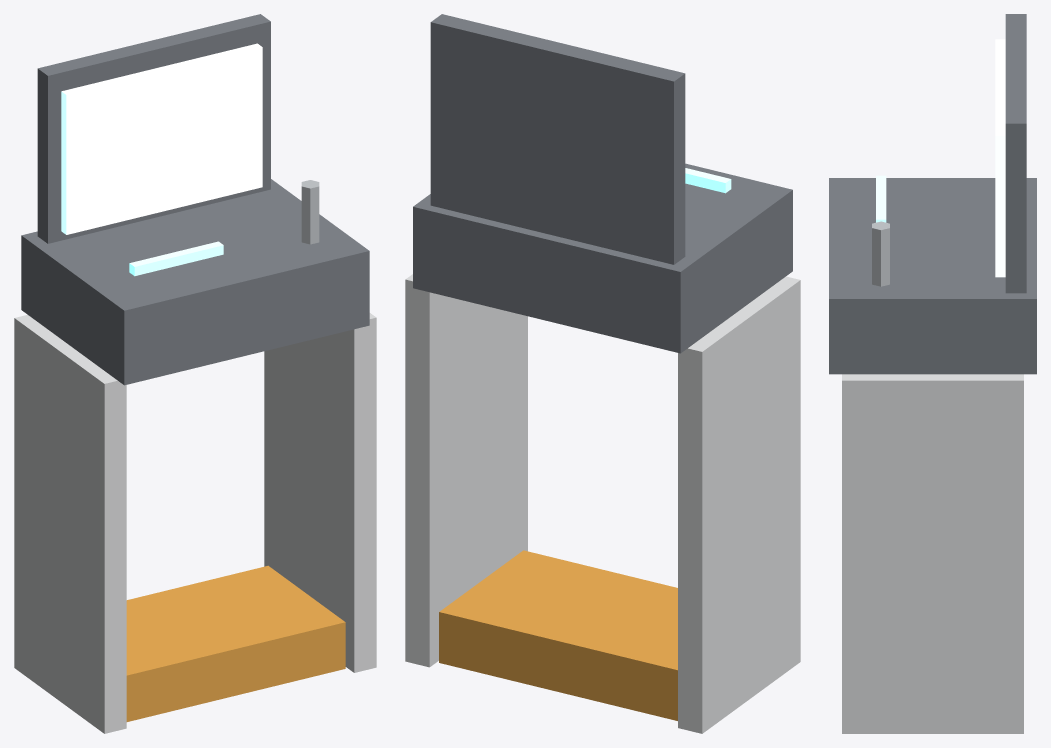
File: ground-control-station.glb
The picture shows the model from 3 angles, left to right: view 1: azimuth 30°, elevation 25°; view 2: azimuth 150°, elevation 25°; view 3: azimuth 270°, elevation 25°; orthographic projection. The views are drawn at different scales.
Parts seen in each view (by area): view 1: ground-control-station, lid/screen, lid/graphite; view 2: ground-control-station, lid/graphite; view 3: ground-control-station, lid/graphite, lid/screen.
Part boxes in pixels (x1,y1,x2,y2): ground-control-station: [14, 179, 376, 733]; lid/screen: [61, 43, 262, 234]; lid/graphite: [37, 14, 270, 243]; ground-control-station: [405, 163, 800, 733]; lid/graphite: [430, 14, 685, 264]; ground-control-station: [829, 175, 1036, 733]; lid/graphite: [1005, 14, 1026, 293]; lid/screen: [995, 39, 1005, 277].
Size of the model in its own units: 0.61 by 1.27 by 0.4.
